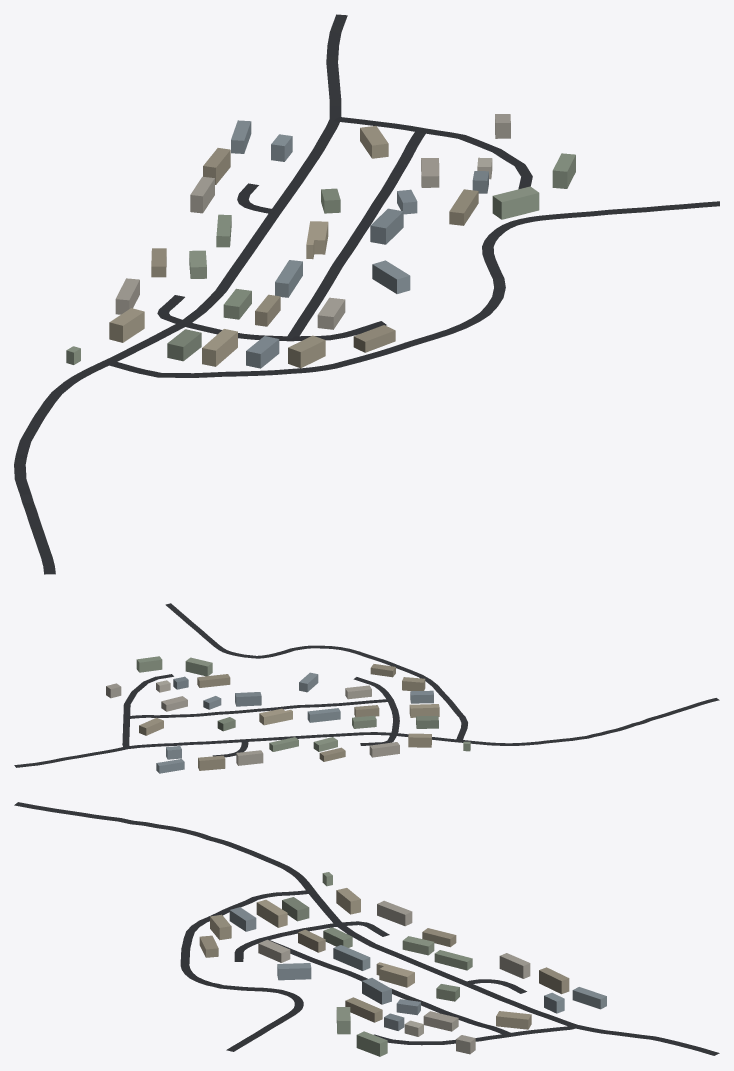
File: tile_2_4.glb
3 views of the same model, one above another, from view 1: azimuth 30°, elevation 25°; view 2: azimuth 150°, elevation 25°; view 3: azimuth 270°, elevation 25° (orthographic). The views are drawn at different scales.
Visible parts, largest first — view 1: bld_2_4, road_2_4; view 2: bld_2_4, road_2_4; view 3: bld_2_4, road_2_4.
Part boxes in pixels (box(x1,y1,x2,y2)): bld_2_4: box(66, 114, 575, 368); road_2_4: box(14, 14, 719, 574); bld_2_4: box(106, 656, 470, 773); road_2_4: box(14, 603, 719, 767); bld_2_4: box(199, 872, 606, 1056); road_2_4: box(14, 802, 719, 1055).
Size of the model in its own units: 603 by 49.1 by 595.
